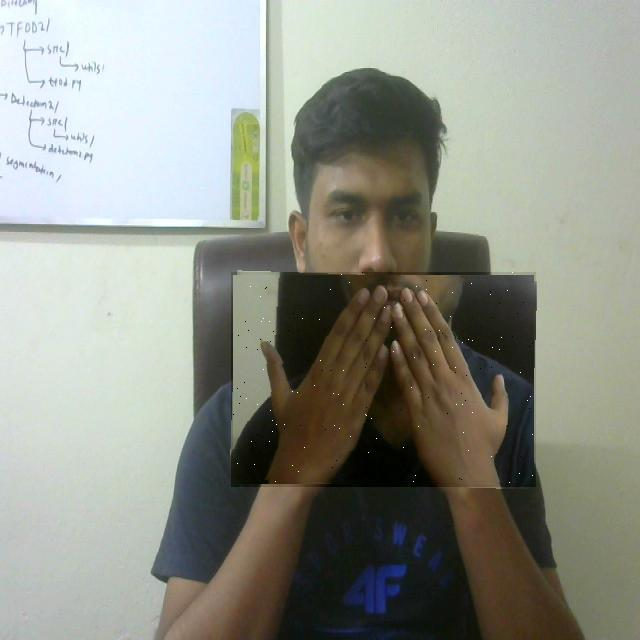Thanks: (231, 272, 536, 487)
